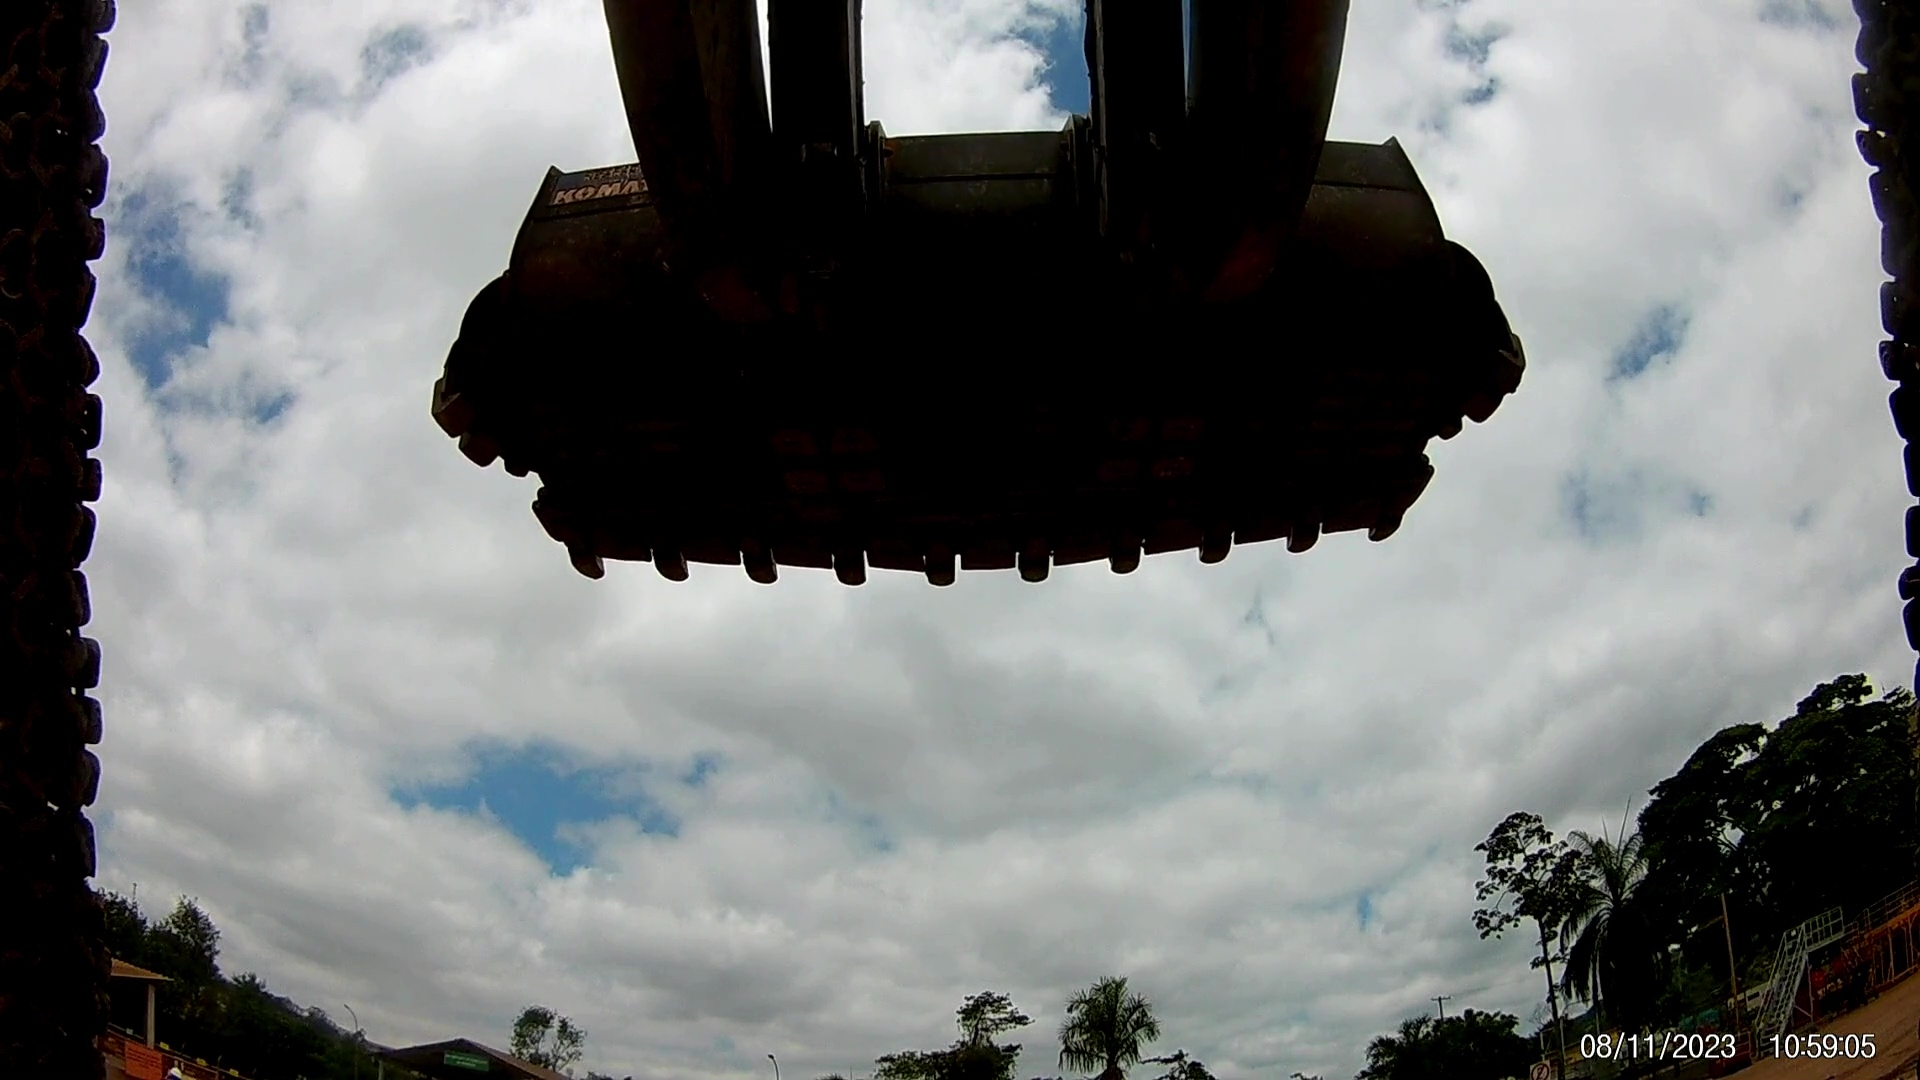FPS: (542, 538, 620, 617), (1356, 506, 1432, 567), (1276, 491, 1332, 568), (644, 538, 705, 607), (1185, 505, 1247, 572), (835, 522, 885, 605), (1104, 516, 1156, 584), (746, 541, 796, 612), (923, 531, 975, 600), (1021, 520, 1056, 603)
